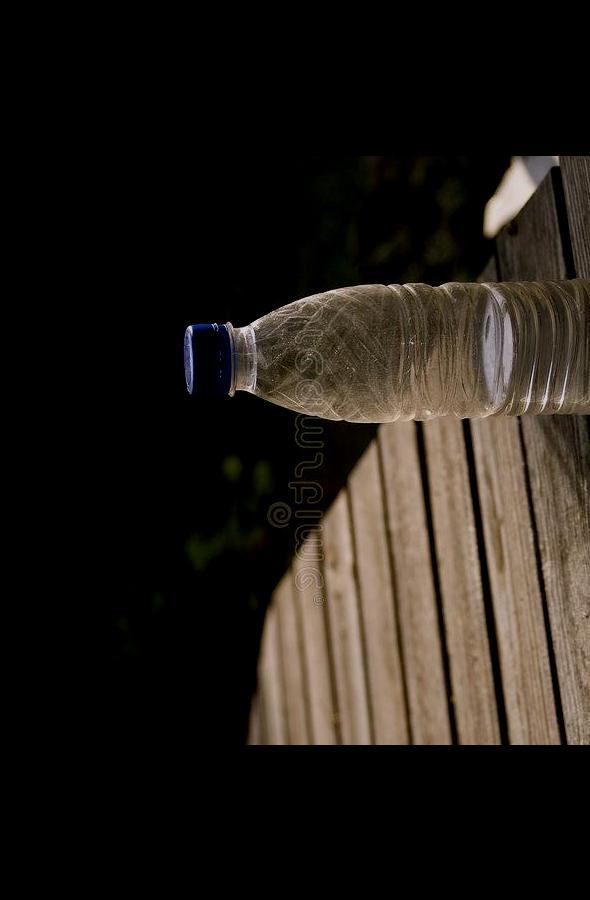bottle: (163, 260, 590, 426)
